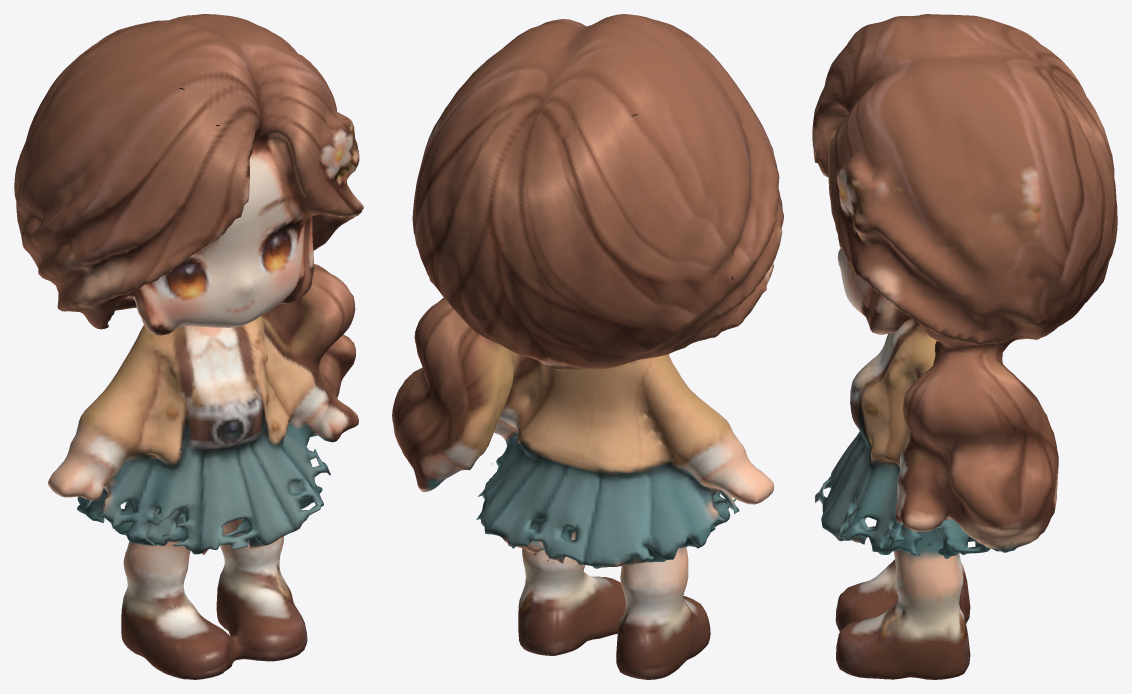
File: tangli-compact-prototype-v1.glb
The picture shows the model from 3 angles, left to right: view 1: azimuth 30°, elevation 25°; view 2: azimuth 150°, elevation 25°; view 3: azimuth 270°, elevation 25°; orthographic projection. The views are drawn at different scales.
Parts seen in each view (by area): view 1: TangLi_Compact_Prototype; view 2: TangLi_Compact_Prototype; view 3: TangLi_Compact_Prototype.
Part boxes in pixels (bbox=[...]): TangLi_Compact_Prototype: bbox=[14, 14, 363, 679]; TangLi_Compact_Prototype: bbox=[392, 14, 783, 679]; TangLi_Compact_Prototype: bbox=[812, 14, 1117, 679].
Bounding box in the file's own units: 1.14 × 1.99 × 0.8881.
Materials: 1 (1 with a texture image).
